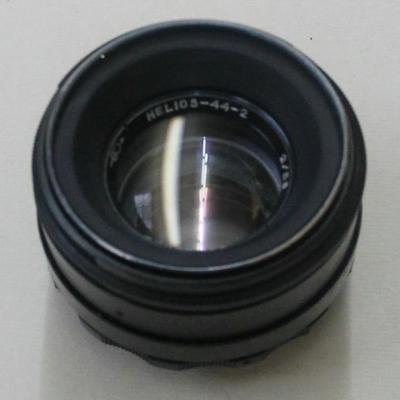technique: (32, 19, 367, 372)
